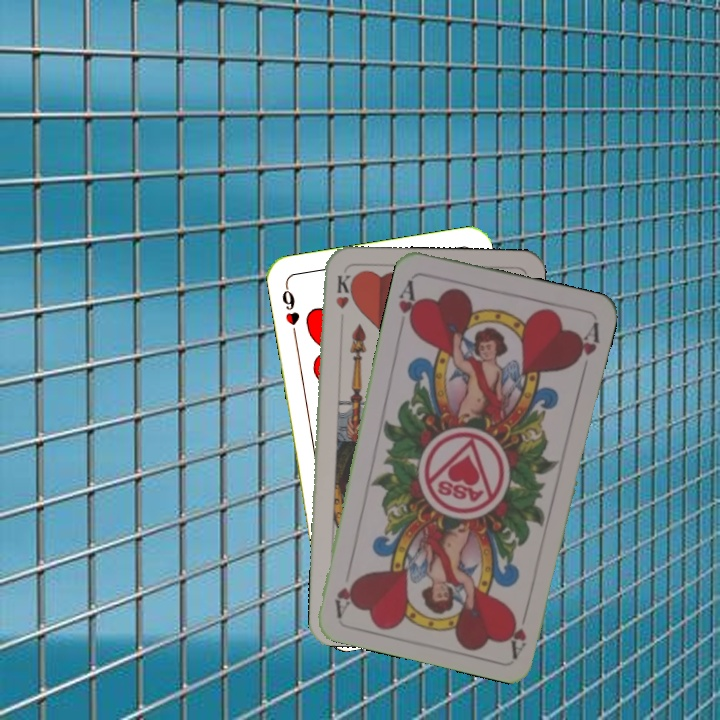H9: (278, 281, 302, 339)
HA: (394, 275, 422, 334), (504, 600, 532, 659)
HK: (332, 271, 351, 311)
